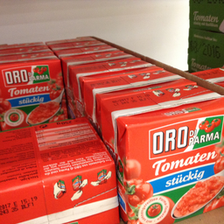tomato_sauce: (95, 78, 224, 222), (1, 117, 119, 224), (1, 51, 68, 128)
